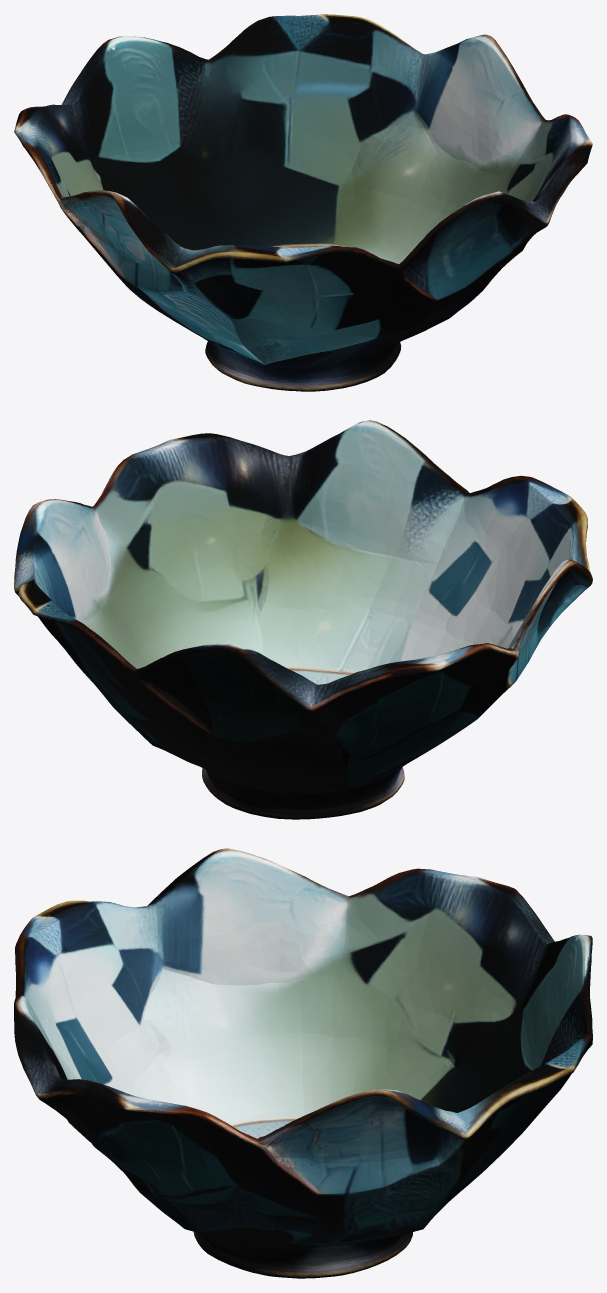
Rendered from ceramic-bowl-futuristic.jpeg.glb.
The picture shows the model from 3 angles, top to bottom: view 1: azimuth 30°, elevation 25°; view 2: azimuth 150°, elevation 25°; view 3: azimuth 270°, elevation 25°; orthographic projection. The views are drawn at different scales.
Visible parts, largest first — view 1: world; view 2: world; view 3: world.
Boxes of the visible parts, x1,y1,x2,y2 form: world: (14, 14, 592, 391); world: (14, 420, 592, 819); world: (14, 848, 592, 1278).
Bounding box in the file's own units: 1 × 0.5062 × 1.
1 material, 1 textured.
